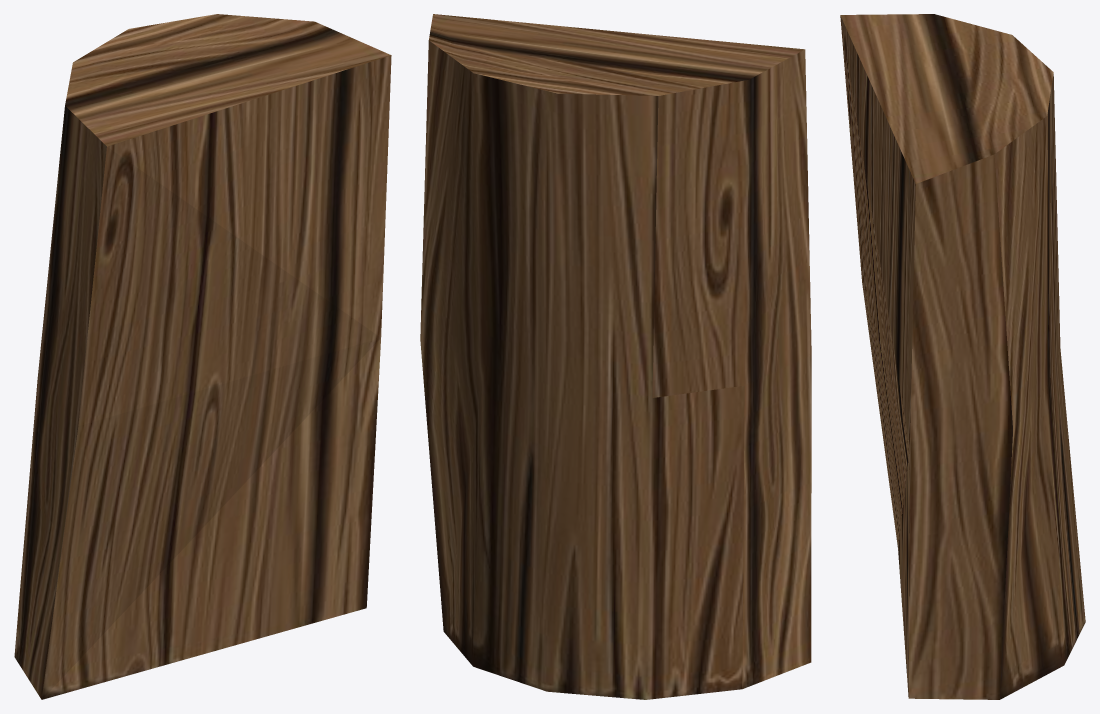
File: woodLog2.obj
The picture shows the model from 3 angles, left to right: view 1: azimuth 30°, elevation 25°; view 2: azimuth 150°, elevation 25°; view 3: azimuth 270°, elevation 25°; orthographic projection. The views are drawn at different scales.
Parts seen in each view (by area): view 1: log2_Mesh.001; view 2: log2_Mesh.001; view 3: log2_Mesh.001.
Boxes of the visible parts, x1=… form: log2_Mesh.001: x1=14, y1=14, x2=391, y2=699; log2_Mesh.001: x1=420, y1=14, x2=811, y2=699; log2_Mesh.001: x1=840, y1=14, x2=1085, y2=699.
Size of the model in its own units: 0.0729 by 0.1123 by 0.0444.
Materials: 1 (1 with a texture image).
